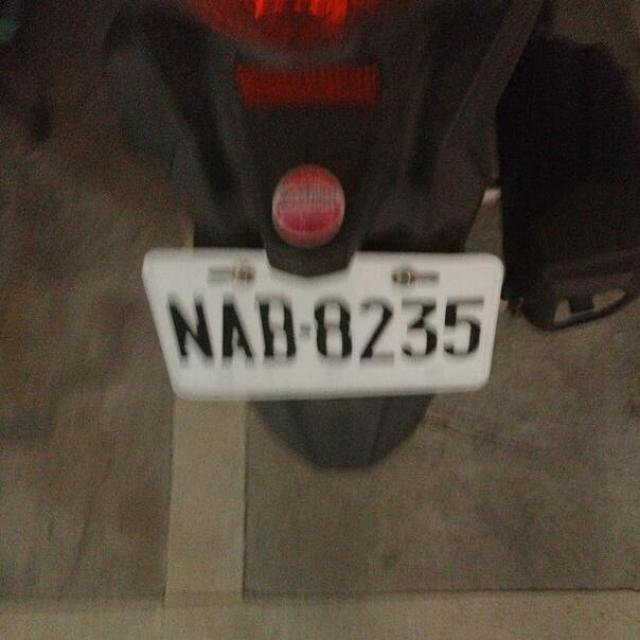W: (131, 220, 515, 420)
